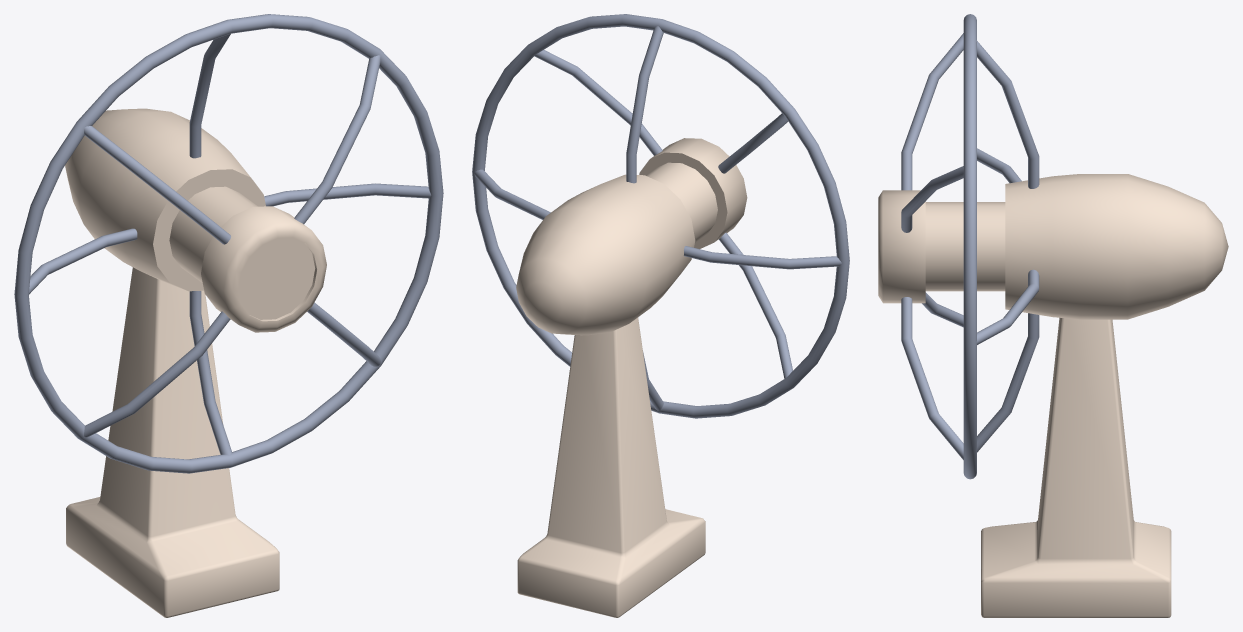
Rendered from Fan1.fbx.
3 renders of one model, left to right at view 1: azimuth 30°, elevation 25°; view 2: azimuth 150°, elevation 25°; view 3: azimuth 270°, elevation 25°, orthographic. The views are drawn at different scales.
Visible parts, largest first — view 1: Cube, Cylinder, Circle, Plane.008, Plane.011, Plane.009, Plane.005, Plane.006, Plane.004, Plane.007, Plane.010; view 2: Cube, Cylinder, Circle, Plane.004, Plane.007, Plane.009, Plane.008, Plane.011, Plane.006; view 3: Cylinder, Cube, Circle, Plane.010, Plane.011, Plane.004, Plane.005, Plane.006, Plane.009, Plane.007, Plane.008.
Boxes of the visible parts, x1,y1,x2,y2 form: Cube: (66, 267, 279, 617); Cylinder: (65, 108, 326, 332); Circle: (14, 14, 443, 473); Plane.008: (84, 311, 230, 437); Plane.011: (84, 126, 230, 244); Plane.009: (294, 55, 380, 224); Plane.005: (189, 291, 232, 455); Plane.006: (264, 183, 431, 206); Plane.004: (189, 34, 230, 158); Plane.007: (28, 228, 137, 294); Plane.010: (307, 302, 380, 366); Cube: (517, 317, 705, 617); Cylinder: (516, 138, 747, 335); Circle: (472, 14, 849, 418); Plane.004: (626, 26, 663, 183); Plane.007: (684, 246, 841, 269); Plane.009: (534, 50, 662, 155); Plane.008: (719, 232, 792, 378); Plane.011: (718, 113, 788, 173); Plane.006: (474, 169, 550, 219); Cylinder: (878, 174, 1228, 319); Cube: (981, 317, 1171, 617); Circle: (963, 14, 976, 479); Plane.010: (901, 297, 963, 460); Plane.011: (901, 33, 963, 190); Plane.004: (976, 40, 1039, 188); Plane.005: (977, 313, 1039, 452); Plane.006: (976, 269, 1039, 344); Plane.009: (901, 166, 963, 232); Plane.007: (977, 148, 1021, 183); Plane.008: (922, 292, 963, 327).
Size of the model in its own units: 743 by 980 by 559.
